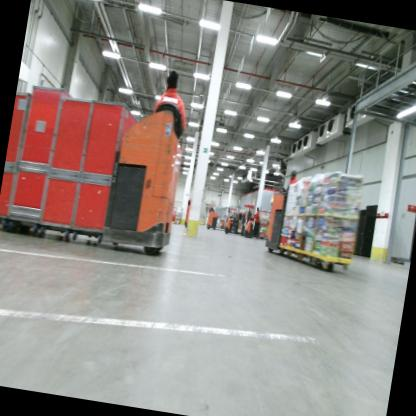pallet_truck: (68, 92, 193, 266), (258, 183, 342, 265), (241, 213, 269, 242), (203, 209, 232, 235), (224, 211, 244, 237), (181, 194, 195, 228), (218, 218, 231, 234)
